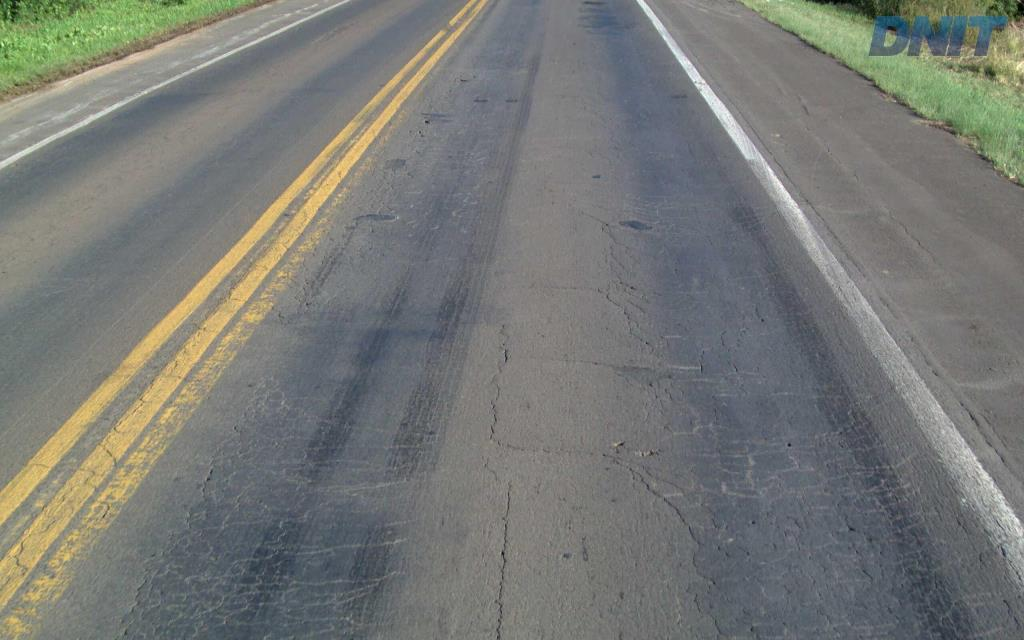crack: (702, 566, 736, 604)
pothole: (628, 443, 660, 457), (608, 436, 627, 449), (419, 113, 432, 124), (455, 74, 470, 81), (416, 128, 423, 137)
